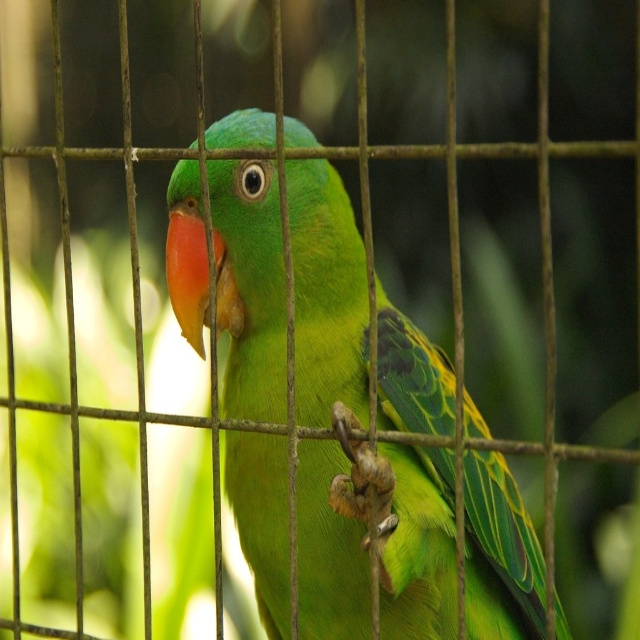Parrot: (165, 107, 573, 640)
